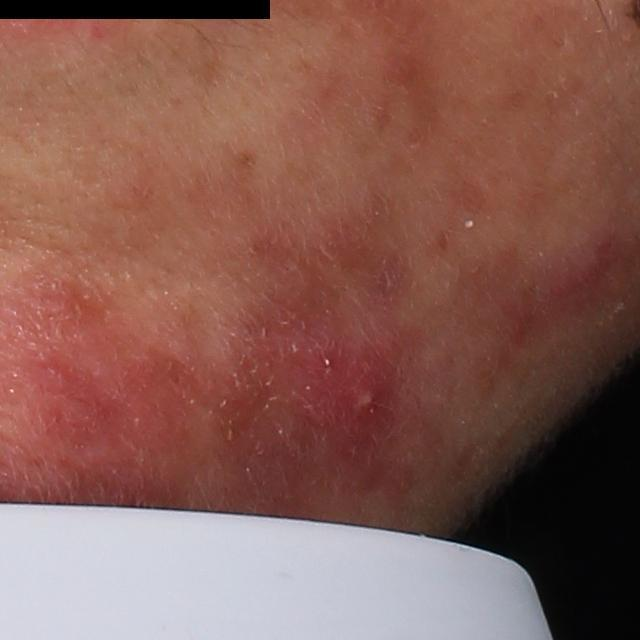nodule: (264, 342, 407, 510)
